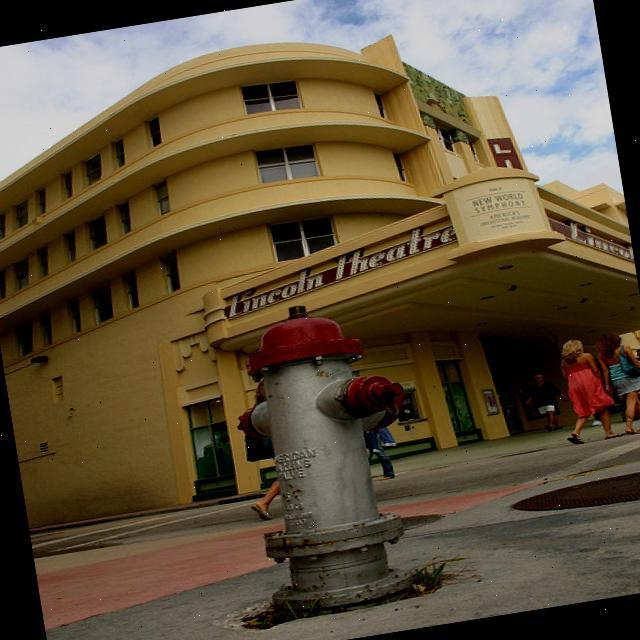fire_hydrant: (219, 290, 444, 619)
